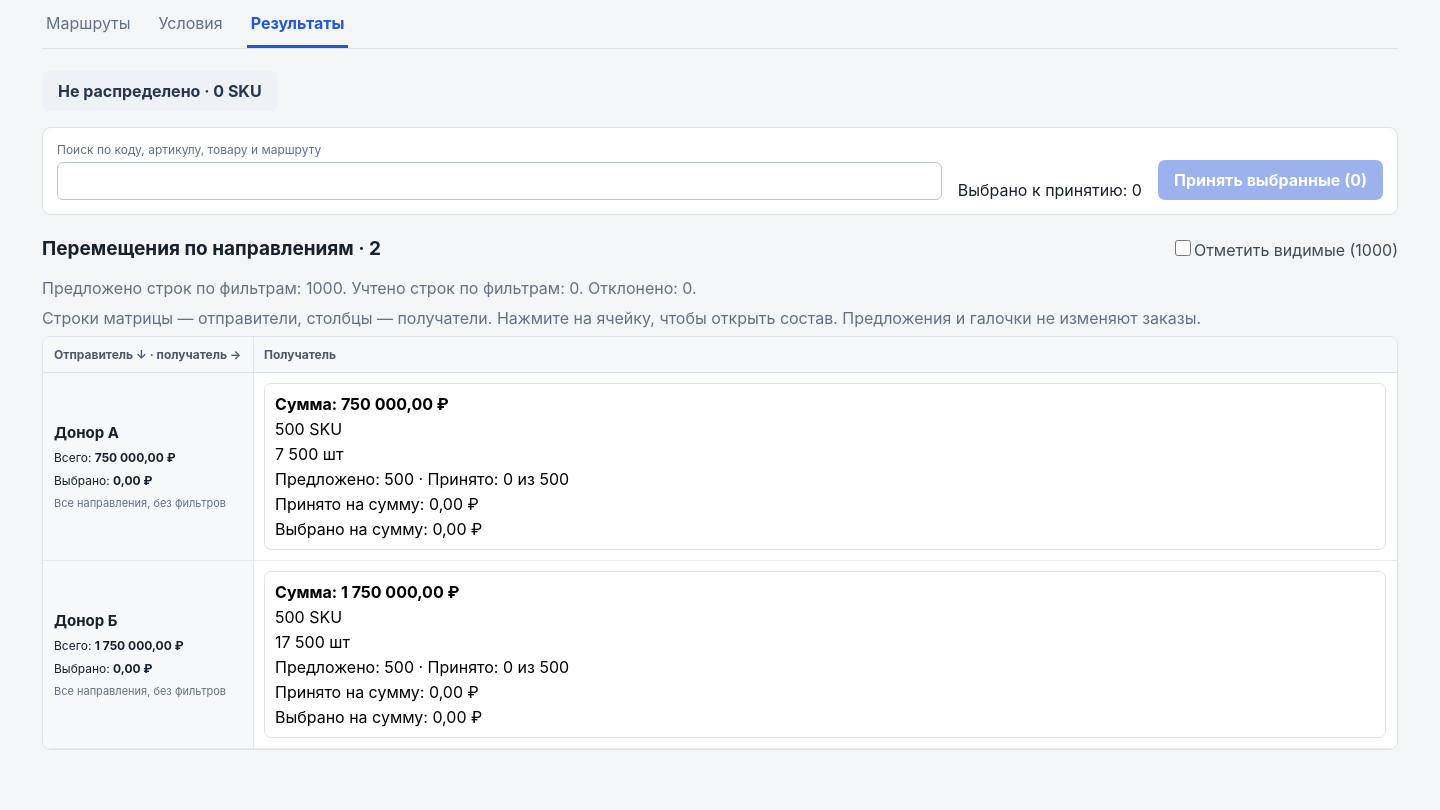
Test: selects the whole virtual composition and preserves selection while searching
The image size is (1440, 810).
(page scrolled)
Click the button with aria-label "Открыть перемещение Донор А → Получатель" at coordinates (825, 466), box [264, 383, 1386, 550]
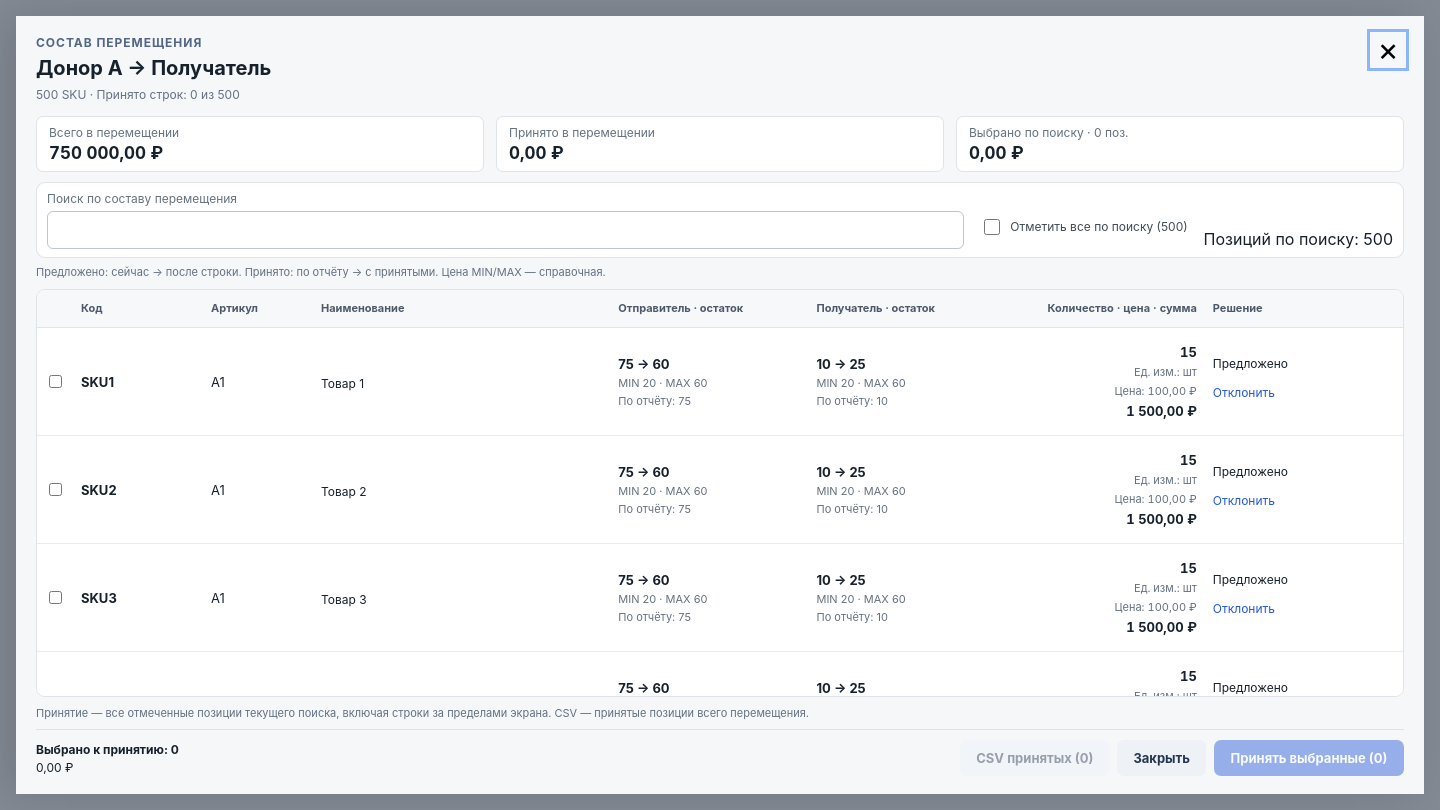
Expected: the dialog "Состав перемещения" shows "500 SKU"
Click the checkbox named "Выбрать все предложения по поиску" at coordinates (992, 226), box [984, 218, 1000, 234]
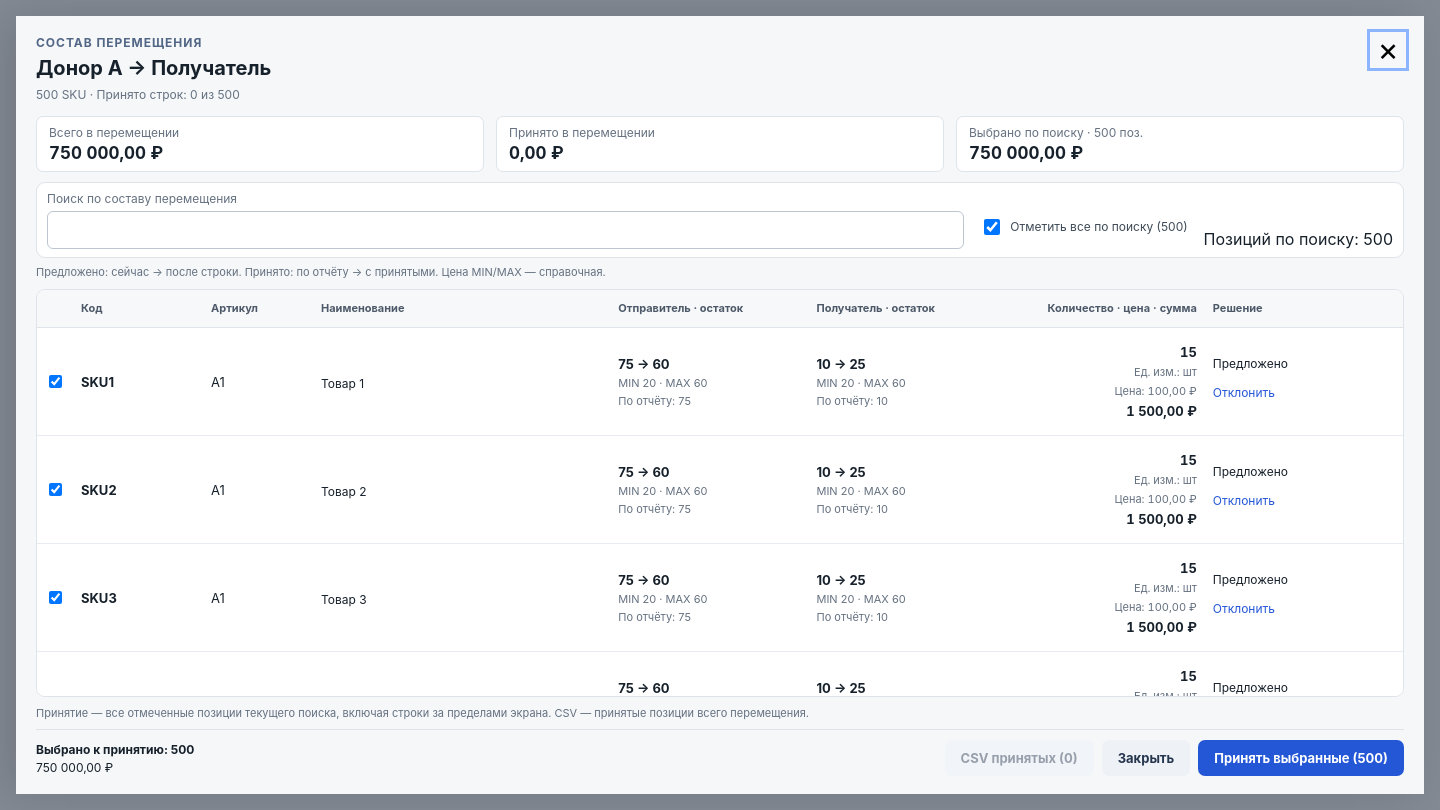
Expected: the button with aria-label "Принять выбранные в перемещении (500)" is enabled, [1198, 740, 1404, 776]
Type "SKU500" into the field labelled "Поиск по составу перемещения" at coordinates (506, 230), box [47, 211, 964, 249]
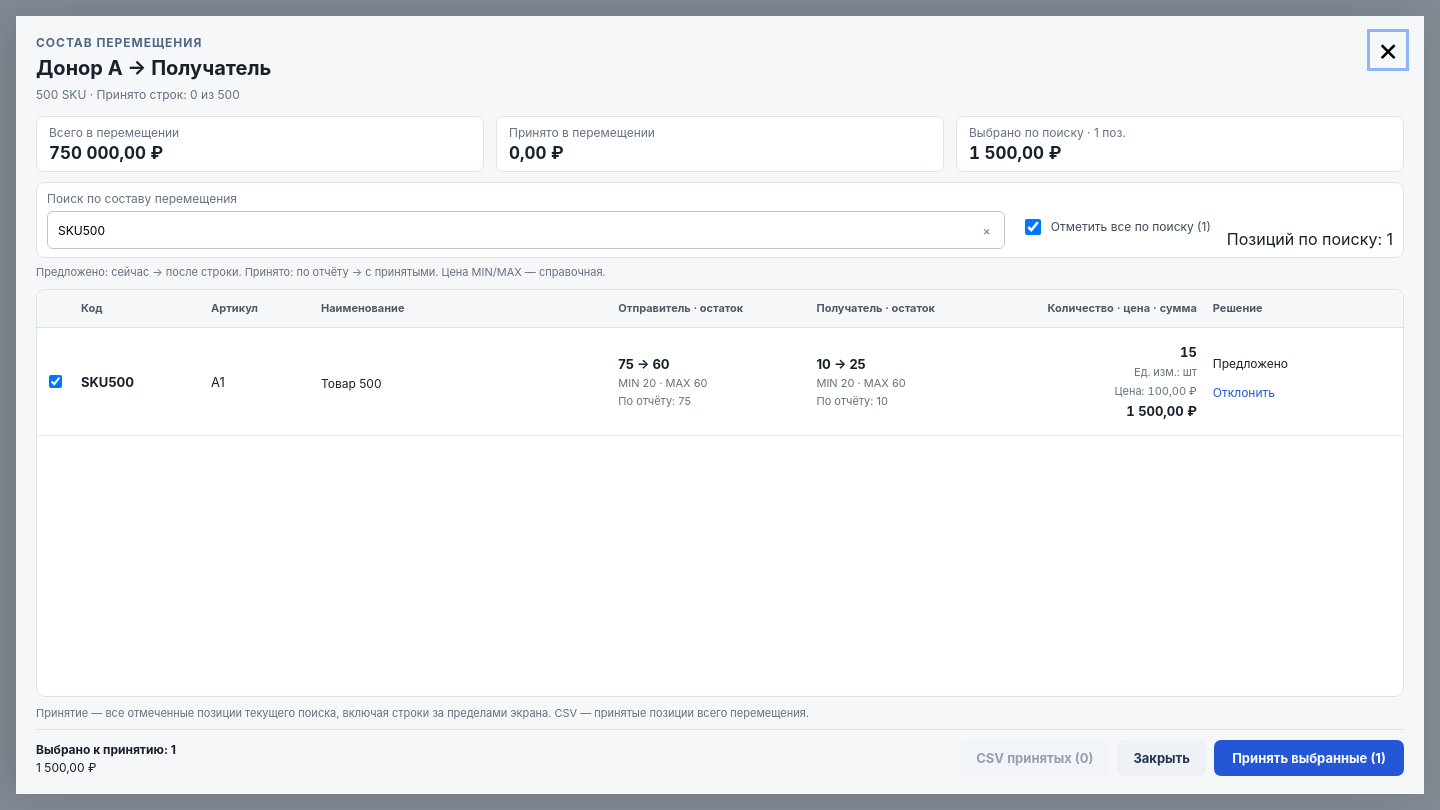
Expected: the checkbox named "Выбрать перемещение SKU500 " is checked
Expected: the button "Товар 500" is shown, [321, 376, 602, 391]
Click the checkbox named "Выбрать перемещение SKU500 " at coordinates (56, 382), box [49, 375, 62, 388]
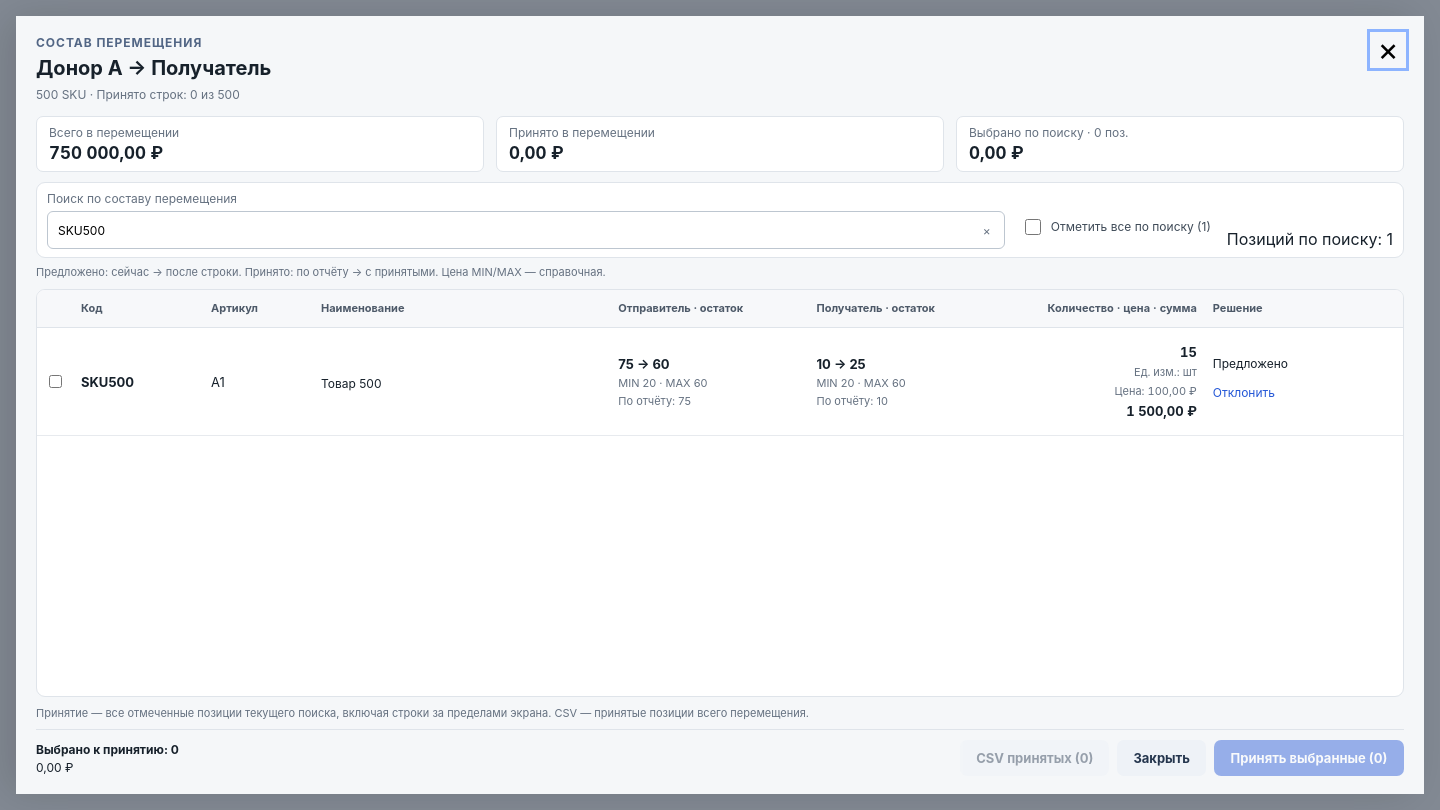
Clear the field labelled "Поиск по составу перемещения" at coordinates (526, 230), box [47, 211, 1005, 249]
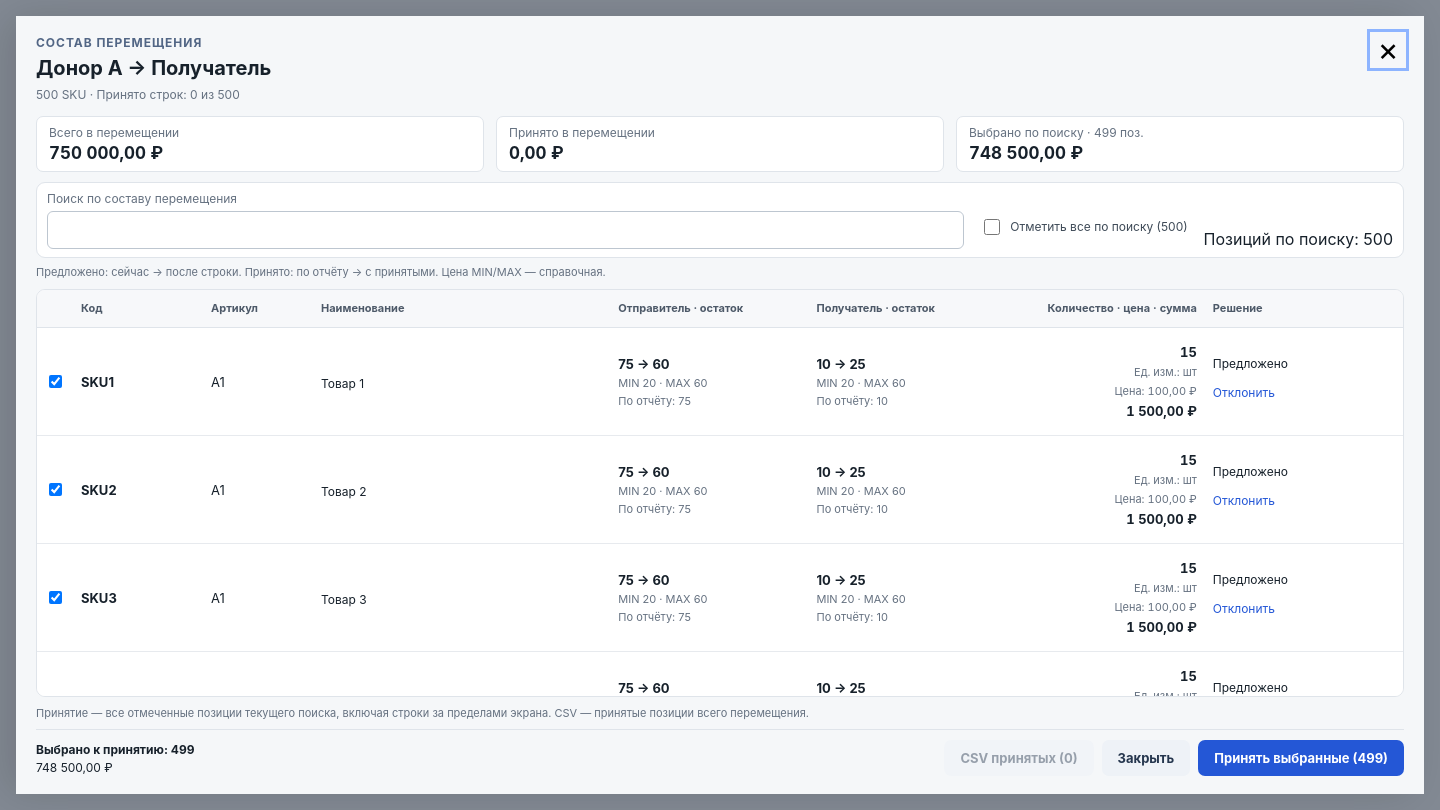
Expected: the button with aria-label "Принять выбранные в перемещении (499)" is enabled, [1198, 740, 1404, 776]
